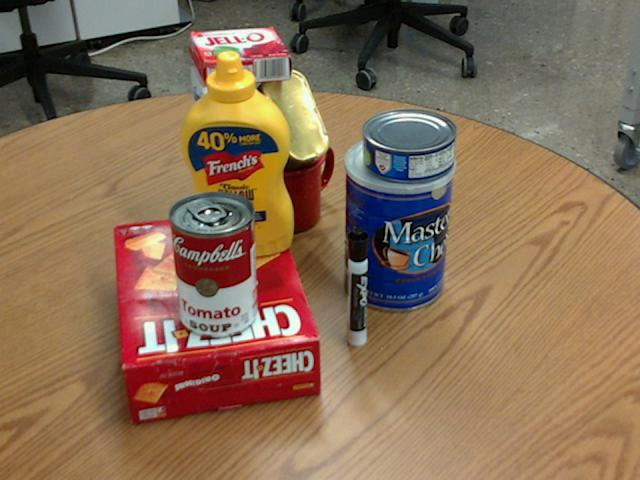cracker_box: (115, 208, 322, 421)
gelatin_box: (190, 28, 290, 86)
large_marker: (346, 227, 368, 346)
master_chef_can: (341, 132, 455, 311)
mug: (241, 131, 335, 232)
mustard_bottle: (179, 50, 292, 255)
potted_meat_can: (234, 71, 329, 188)
sugar_box: (192, 64, 250, 256)
tomato_soup_can: (169, 190, 257, 337)
tuna_fish_can: (362, 108, 456, 181)
